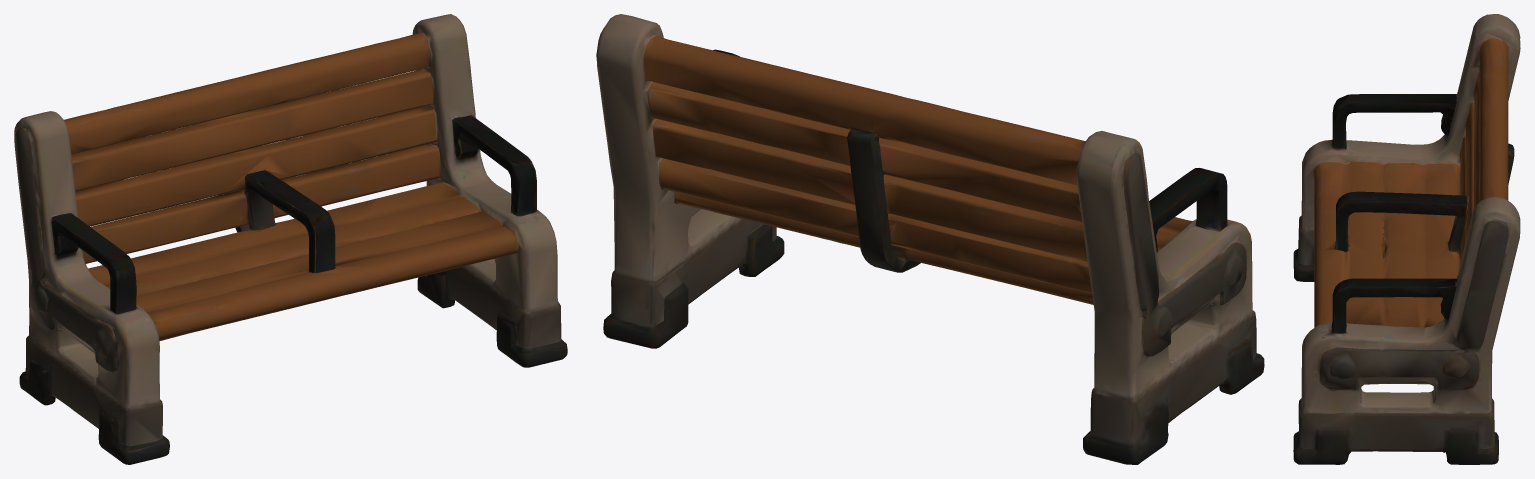
The model's file is bench.glb.
3 views of the same model, side by side, from view 1: azimuth 30°, elevation 25°; view 2: azimuth 150°, elevation 25°; view 3: azimuth 270°, elevation 25° (orthographic). The views are drawn at different scales.
Visible parts, largest first — view 1: geometry_0; view 2: geometry_0; view 3: geometry_0.
Boxes of the visible parts, bbox=[...] form: geometry_0: bbox=[14, 14, 567, 464]; geometry_0: bbox=[596, 14, 1264, 464]; geometry_0: bbox=[1293, 14, 1520, 464].
Bounding box in the file's own units: 1 × 0.5762 × 0.469.
Materials: 1 (1 with a texture image).
